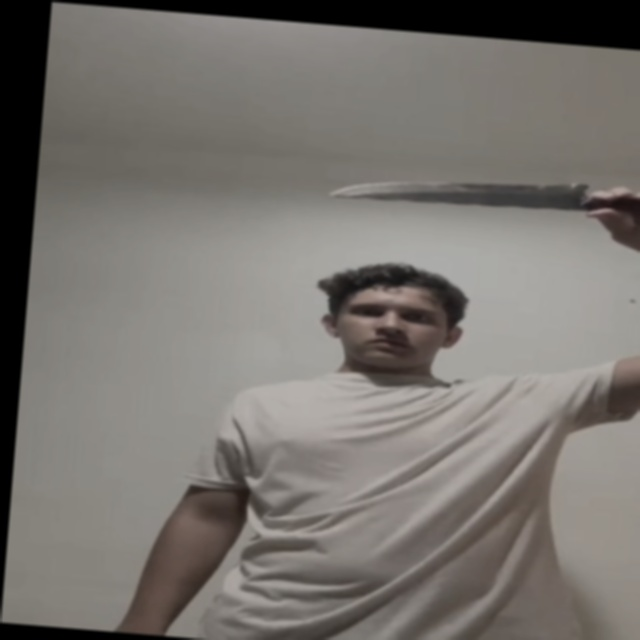Sharp-Object: (329, 160, 587, 220)
